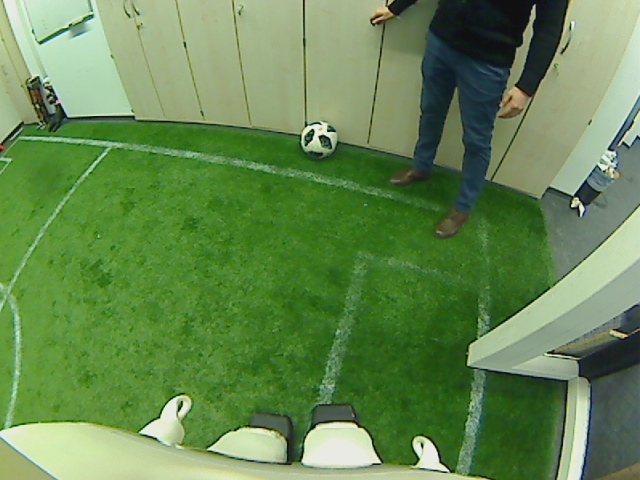ball: (298, 121, 337, 160)
